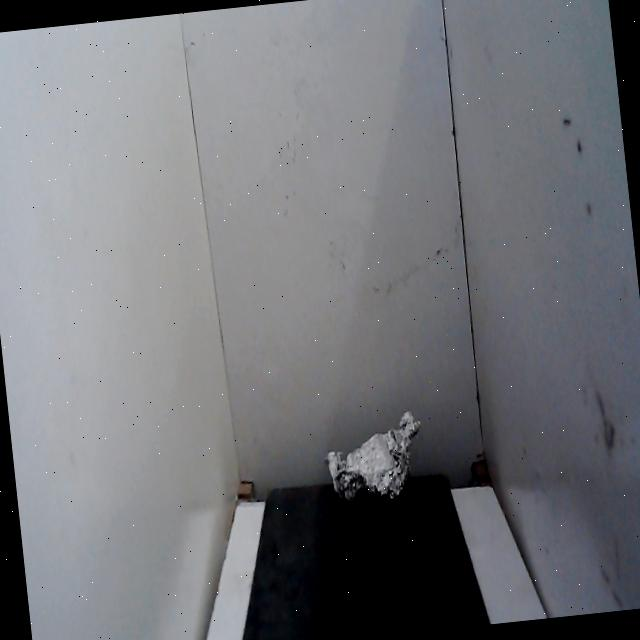metal: (313, 400, 433, 520)
